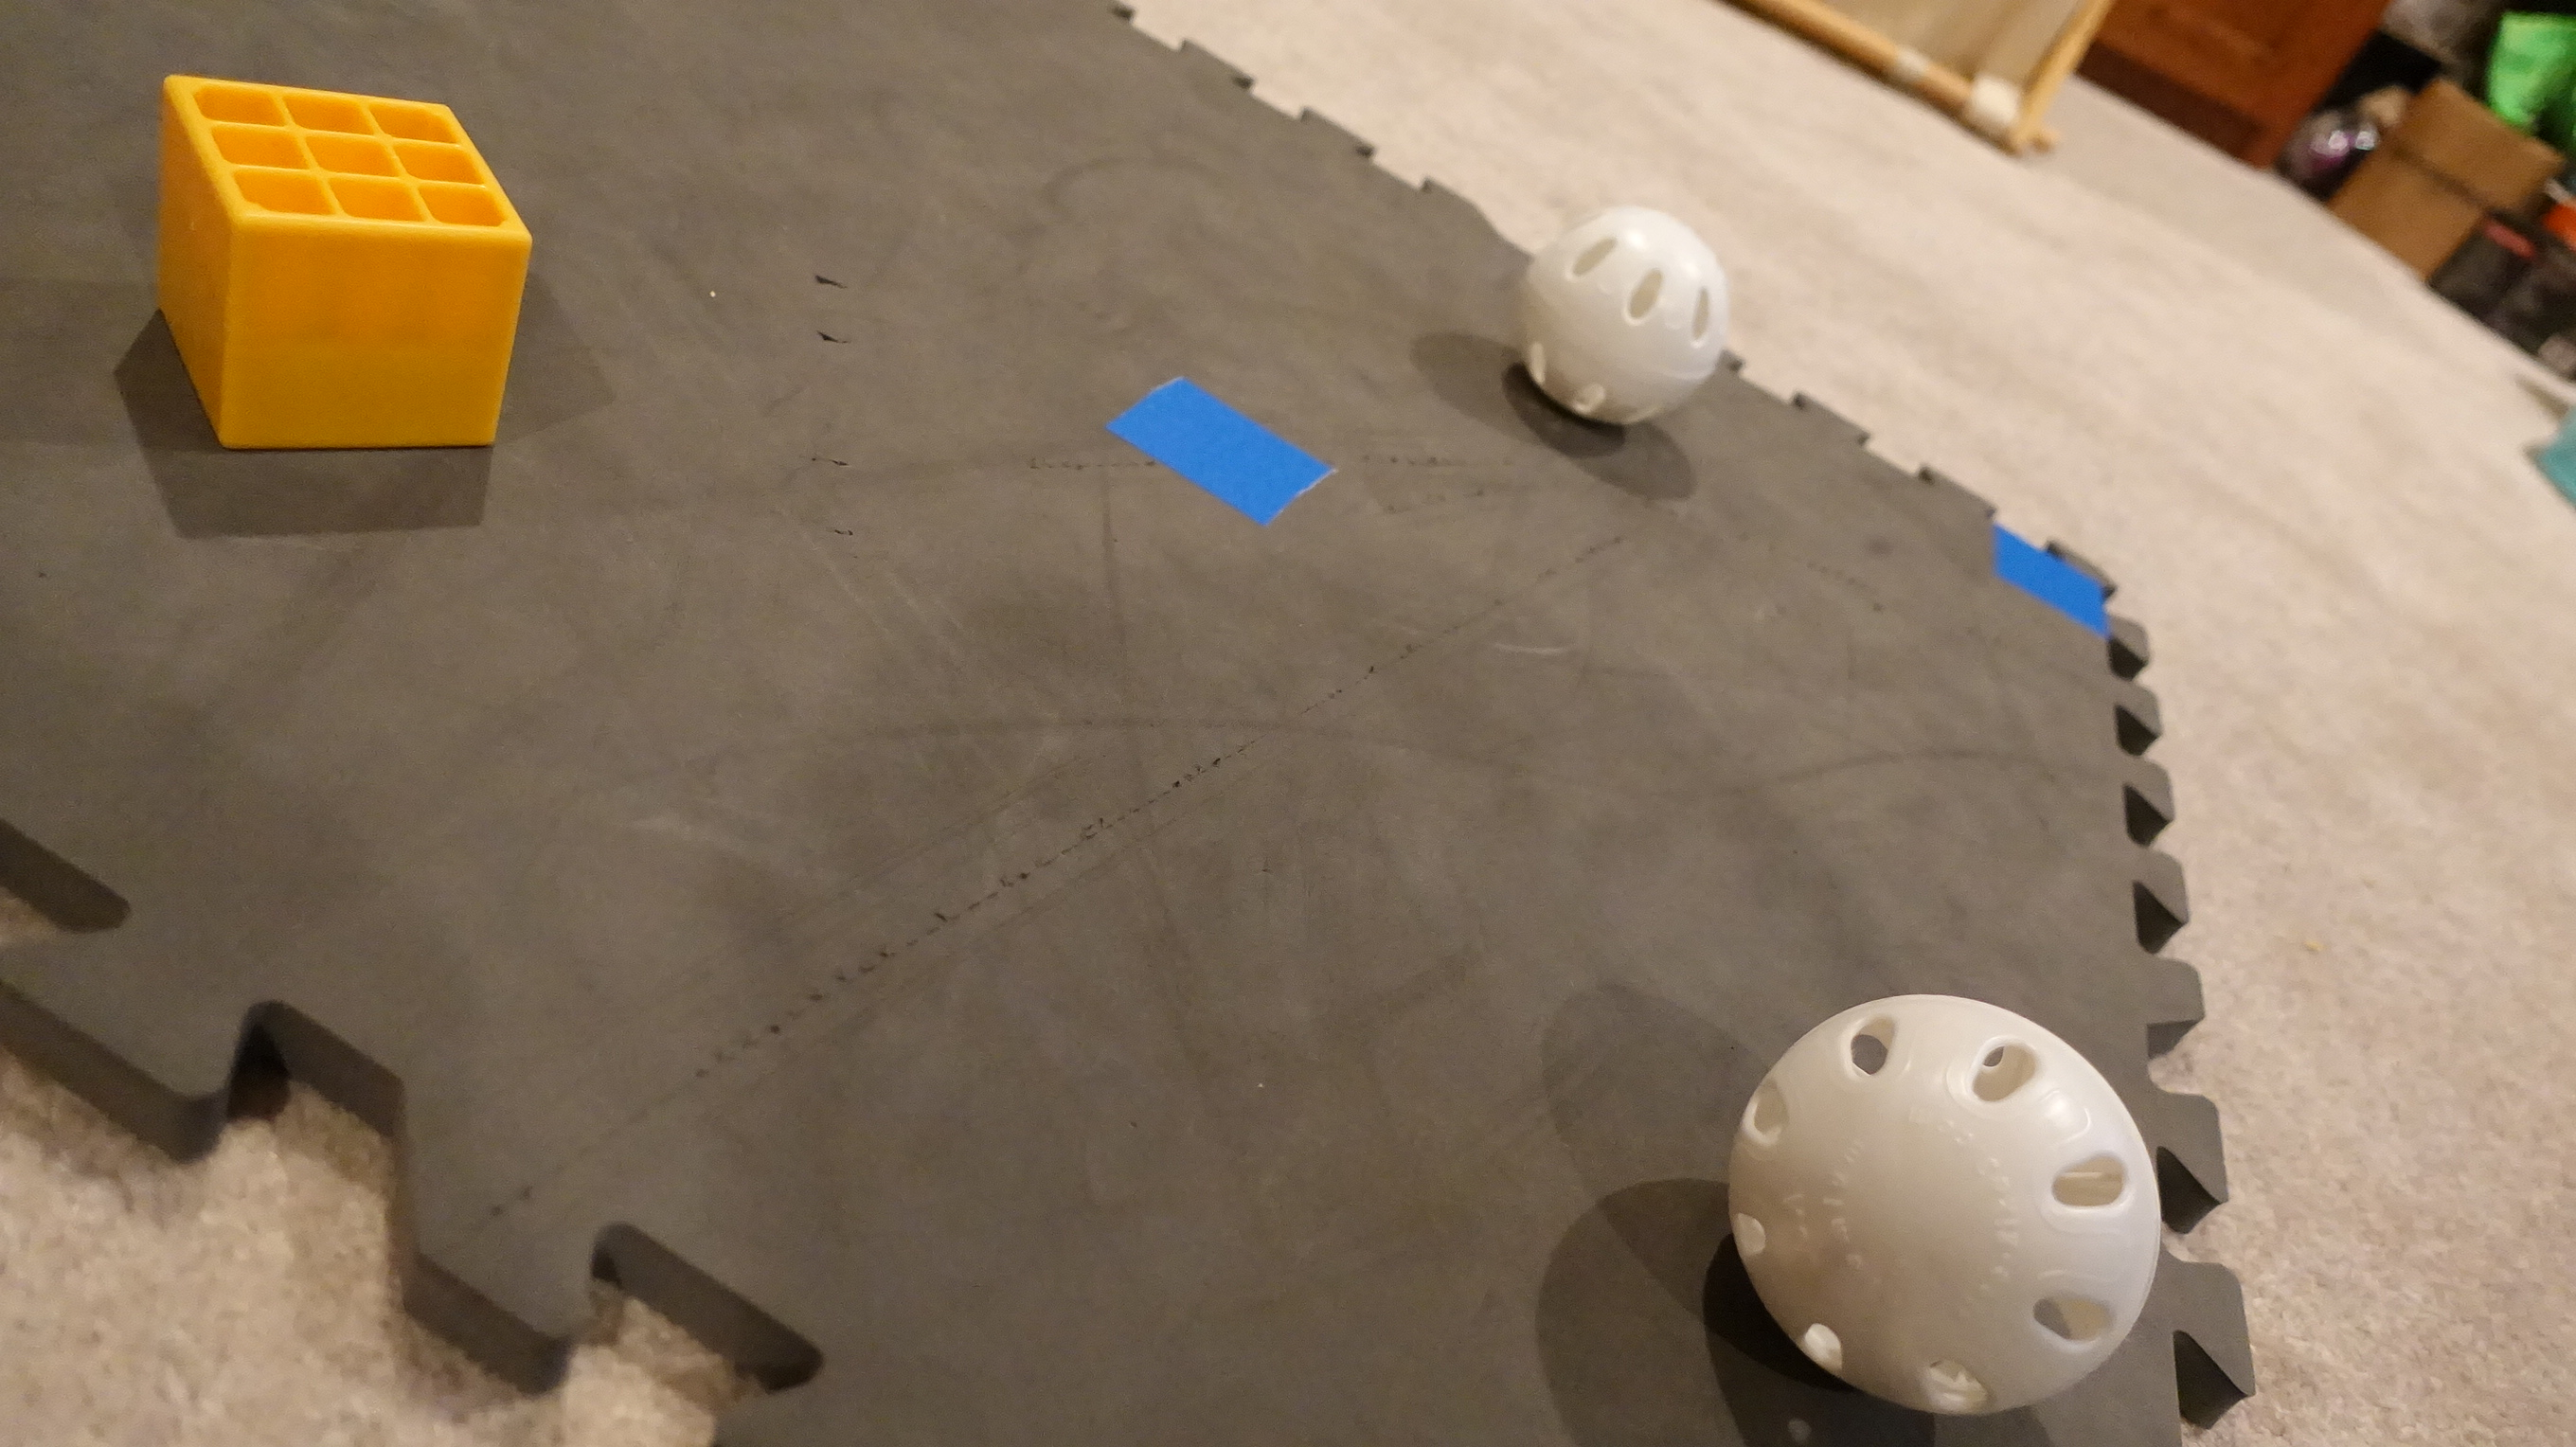gold: (145, 35, 547, 463)
silver: (1721, 984, 2169, 1426), (1513, 188, 1737, 426)
